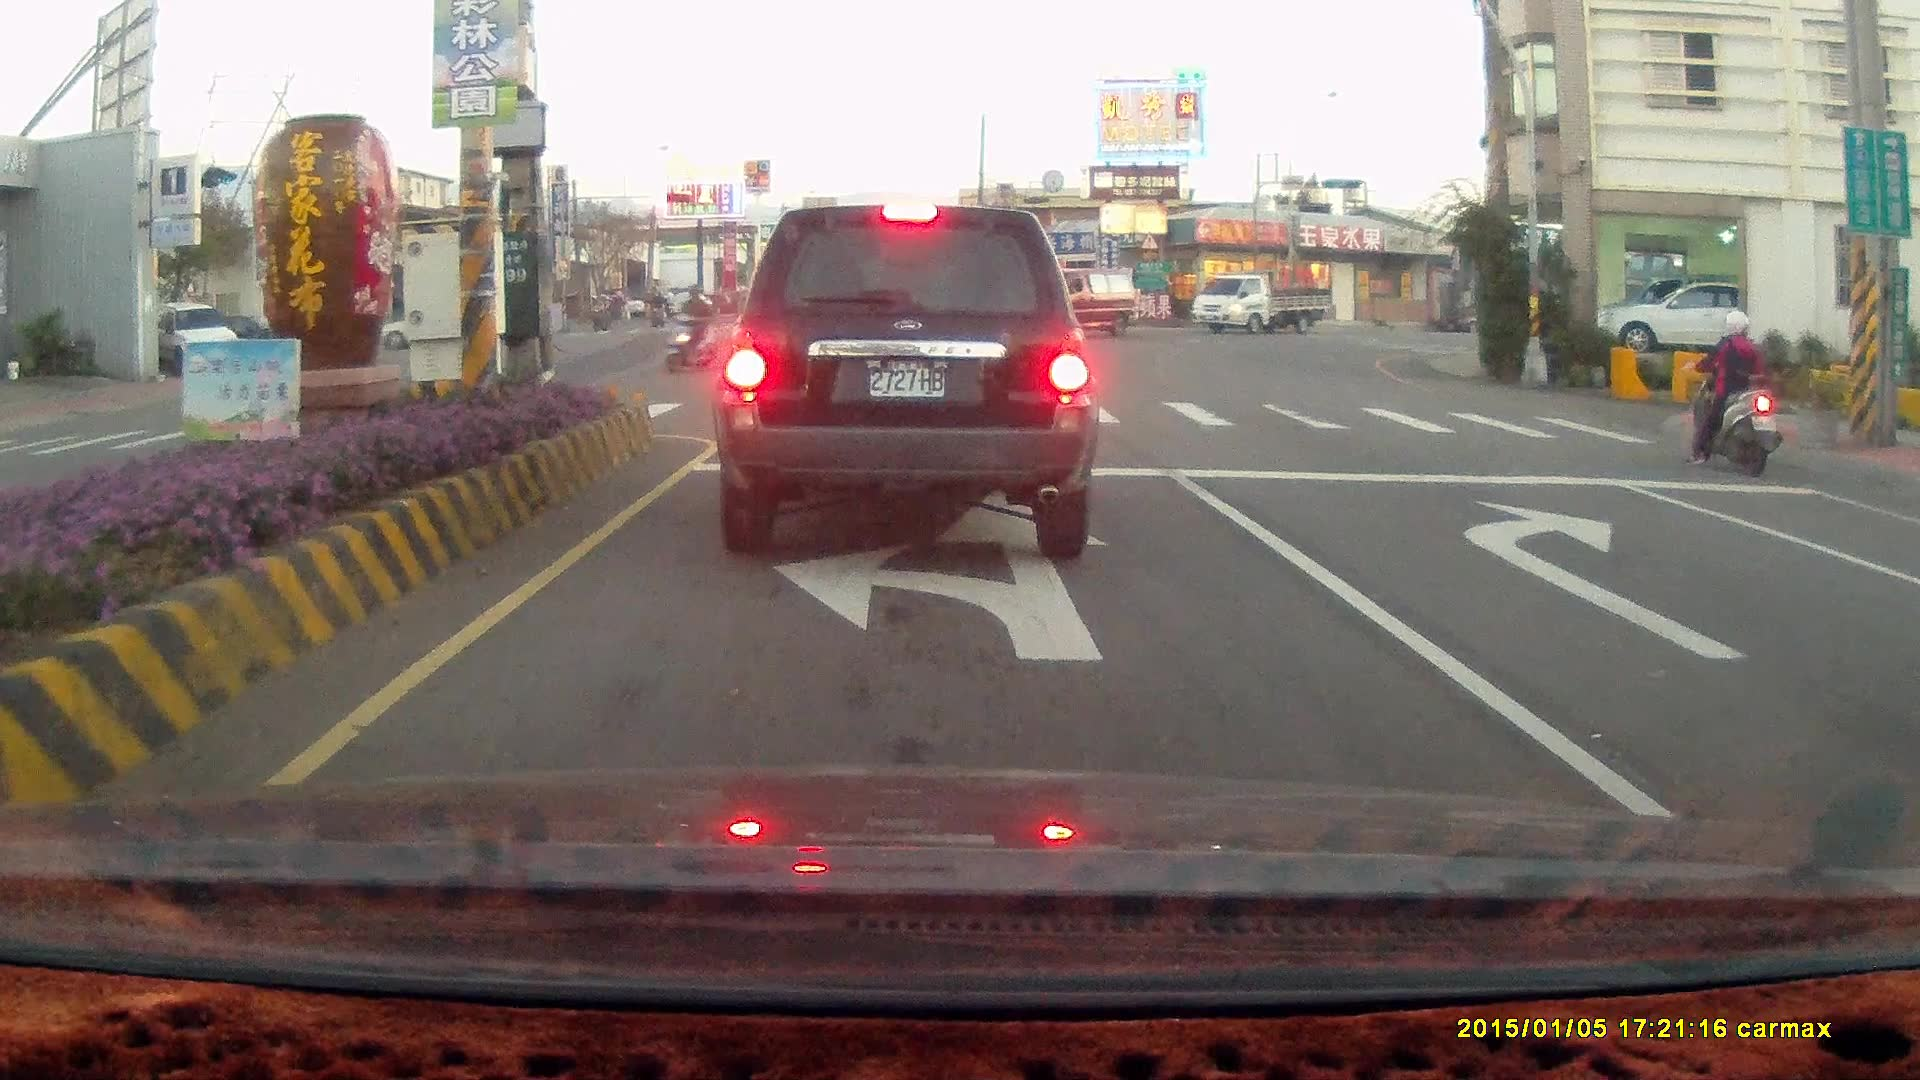rider: (1689, 308, 1783, 475), (660, 281, 720, 374), (588, 290, 614, 330), (650, 289, 671, 326)
vehicle: (711, 203, 1099, 561), (1585, 275, 1786, 353), (1007, 267, 1137, 341), (1602, 280, 1737, 351), (1191, 274, 1331, 341), (1006, 266, 1136, 338), (129, 299, 238, 379), (1896, 493, 1920, 836), (1883, 528, 1920, 690)
